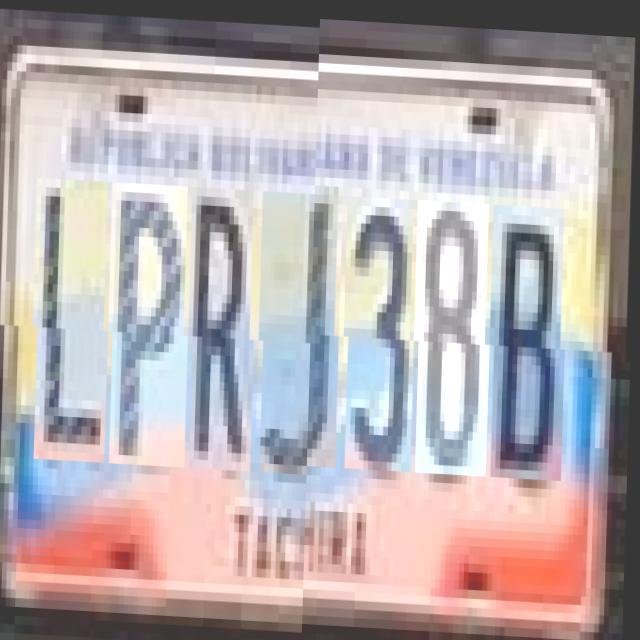3: (347, 200, 419, 476)
8: (418, 204, 494, 479)
B: (493, 208, 570, 482)
J: (262, 188, 344, 472)
L: (36, 178, 114, 462)
P: (112, 181, 194, 465)
R: (192, 185, 260, 468)
